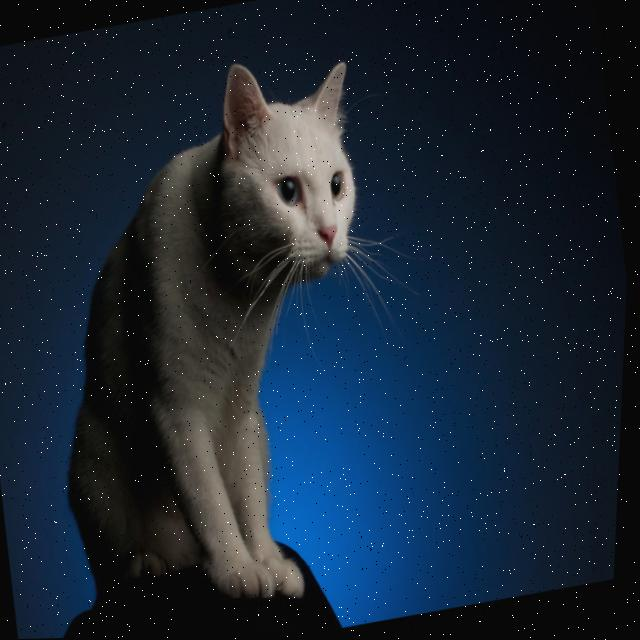Khao Manee: (1, 37, 434, 640)
